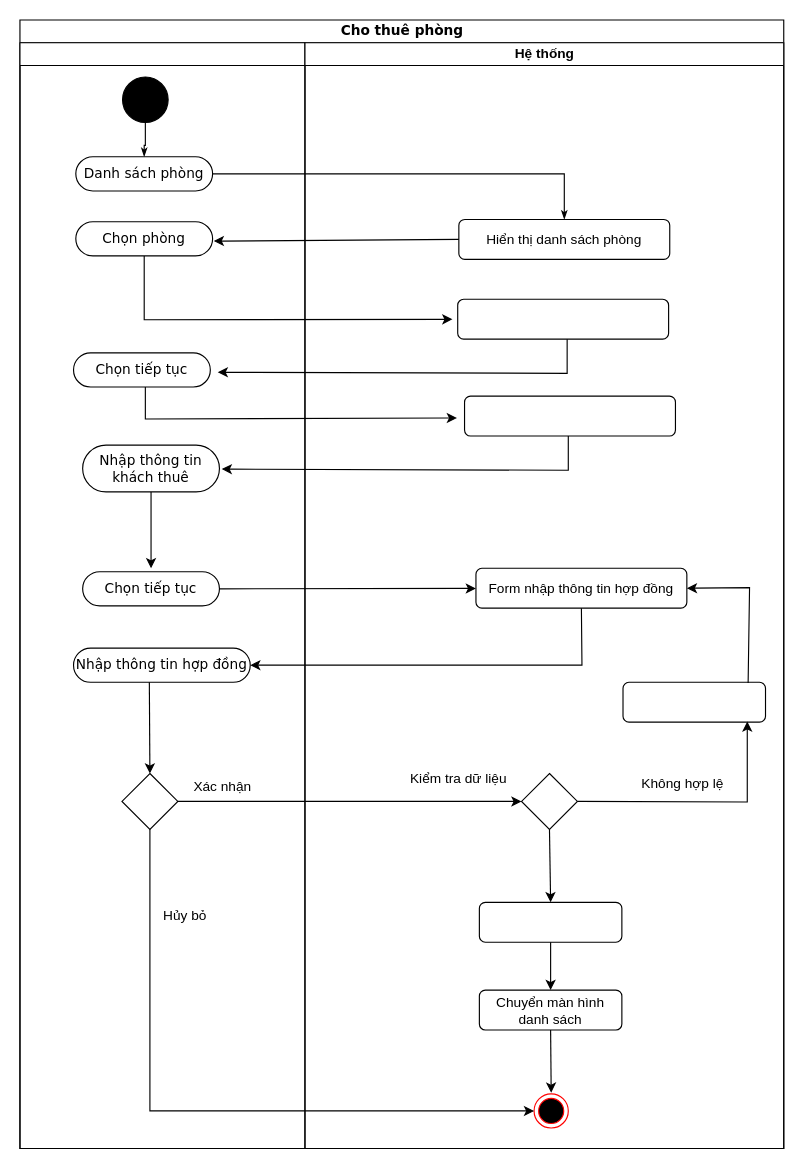
The diagram is 804 pixels wide and 1169 high, and some of its shapes have lost their labels. The shapes that lost their labels are listed below. From the top down, each one's box as (x1, y1, x2, y2) in pixels, then its label:
(457, 298, 669, 339): Thông tin chi tiết phòng
(463, 395, 675, 436): Form nhập thông tin khách hàng
(19, 42, 305, 1149): Chủ trọ
(622, 681, 766, 722): Thông báo lỗi
(478, 901, 622, 942): Hiển thị thông báo
